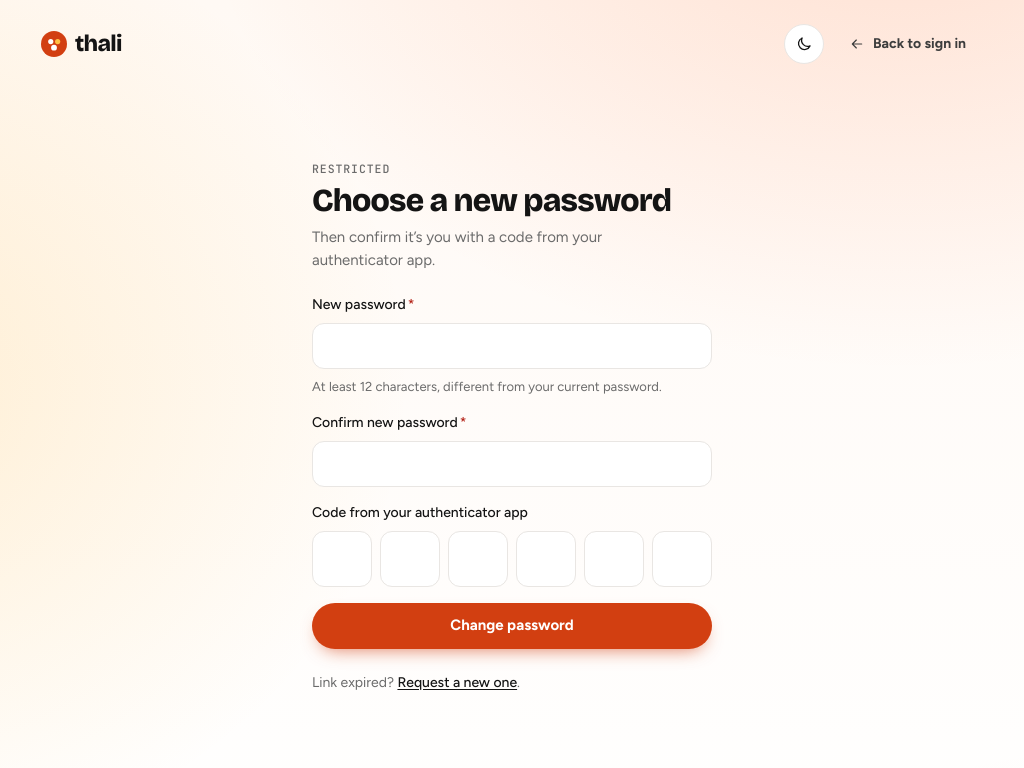
Scenario: admin password reset (IDN-1) › reset strips the token from the URL, sets no-referrer and posts token + password + TOTP
Type "n3w-password!" into the password field labelled "New password*" at (512,346), box [312,323,712,369]
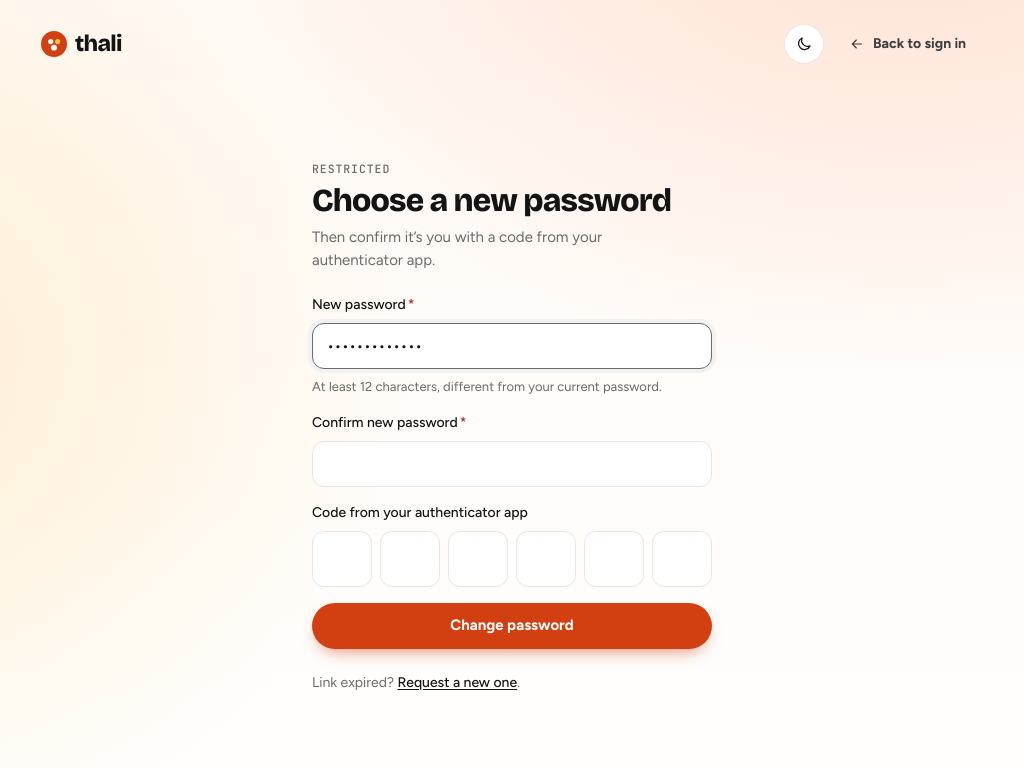
Type "n3w-password!" into the password field labelled "Confirm new password*" at (512,464), box [312,441,712,487]
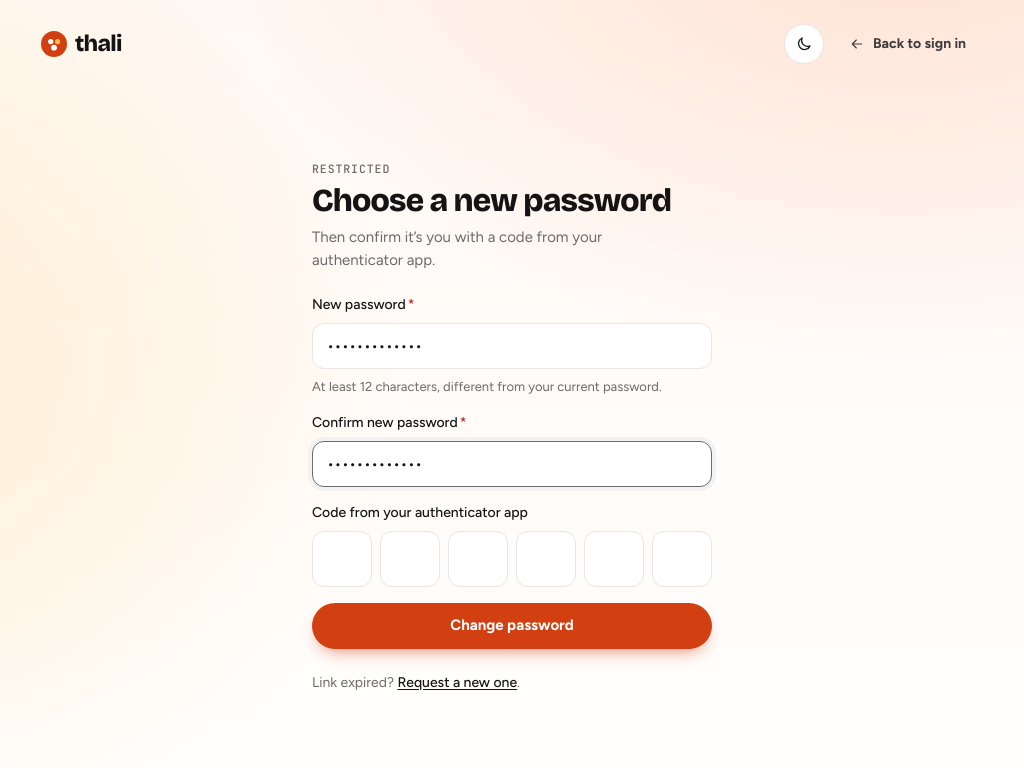
Type "123456" into the field named "Authenticator code" at (512,559), box [312,531,712,587]
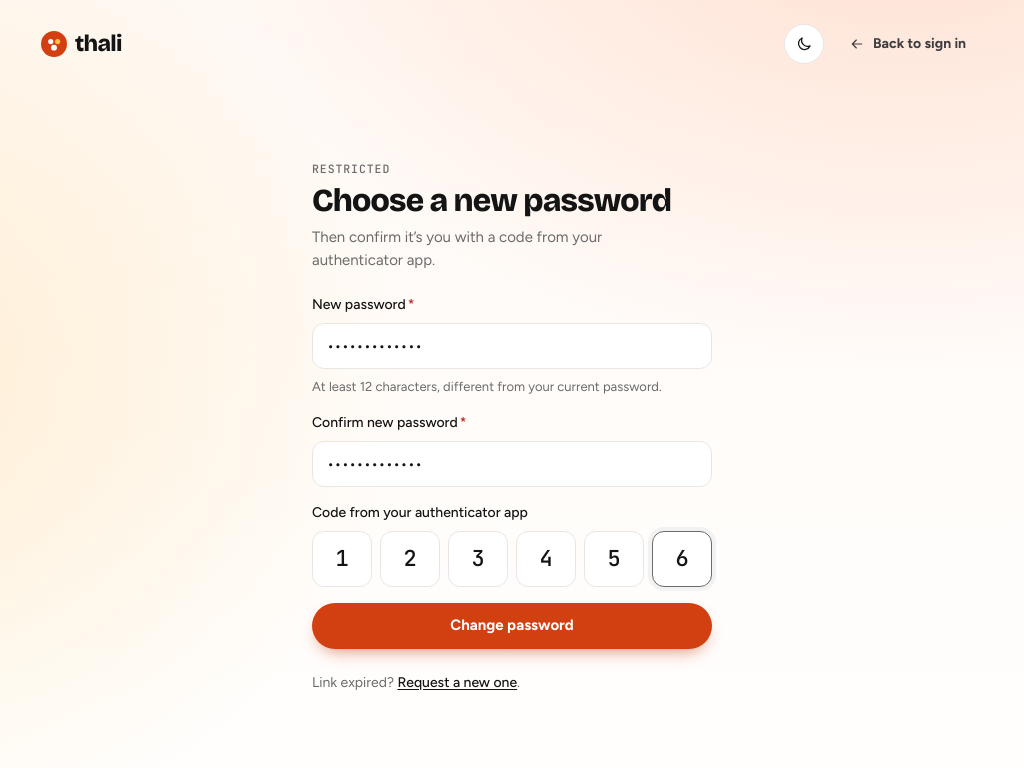
Click the button "Change password" at (512,626), box [312,603,712,649]
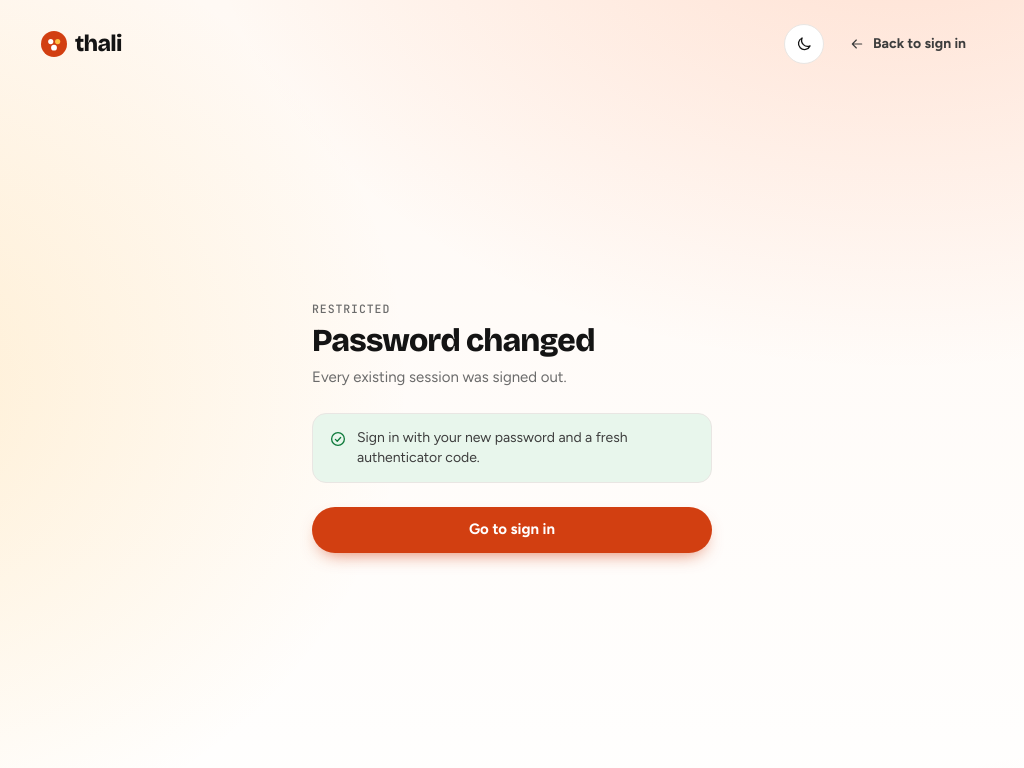
Result: the heading "Password changed" is shown at [312,321,595,360]
